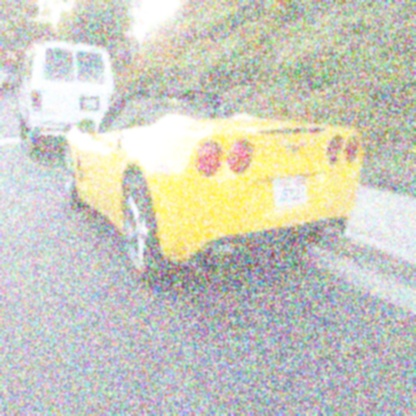Vehicle: (61, 86, 363, 285)
